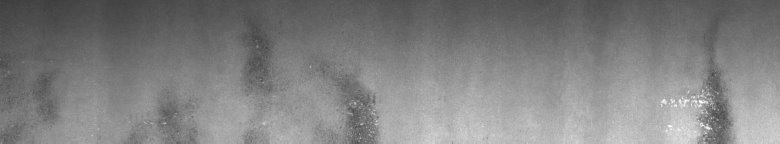hc: (661, 44, 739, 136)
